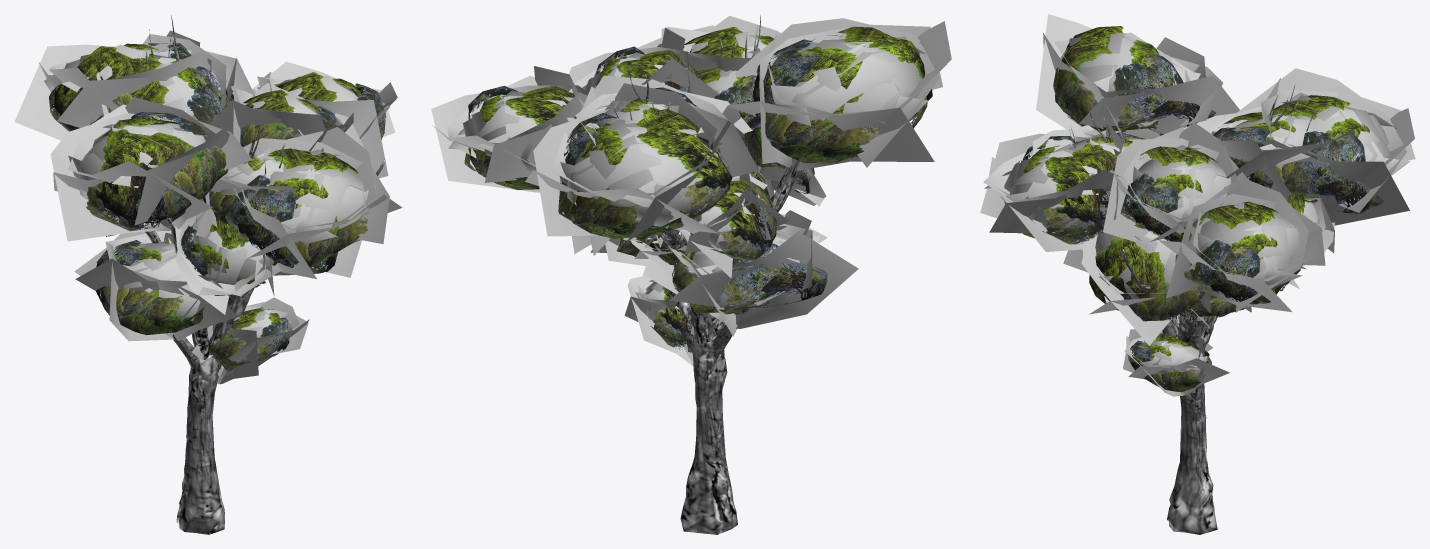
Rendered from ETP_TreePinus_02_OP.fbx.
3 views of the same model, side by side, from view 1: azimuth 30°, elevation 25°; view 2: azimuth 150°, elevation 25°; view 3: azimuth 270°, elevation 25° (orthographic). The views are drawn at different scales.
Parts seen in each view (by area): view 1: ETP_TreePinus_02_LOD0; view 2: ETP_TreePinus_02_LOD0; view 3: ETP_TreePinus_02_LOD0.
Boxes of the visible parts, x1,y1,x2,y2 form: ETP_TreePinus_02_LOD0: (14, 15, 402, 534); ETP_TreePinus_02_LOD0: (431, 15, 951, 534); ETP_TreePinus_02_LOD0: (980, 14, 1415, 534).
Size of what is drawn, in the model's own units: 2586 by 2907 by 2523.
